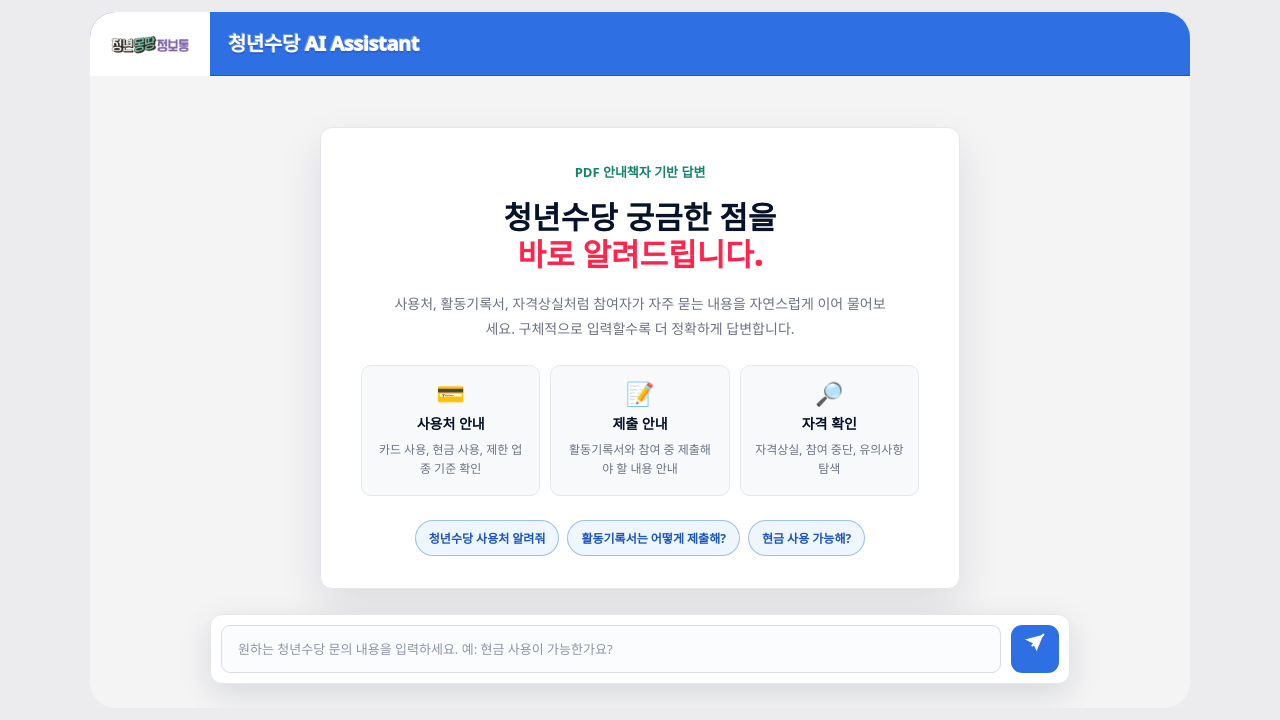
Test case: renders assistant answer with source after submit
Type "사용처 알려줘" into the field named "청년수당 질문" at (611, 649), box [221,625,1001,673]
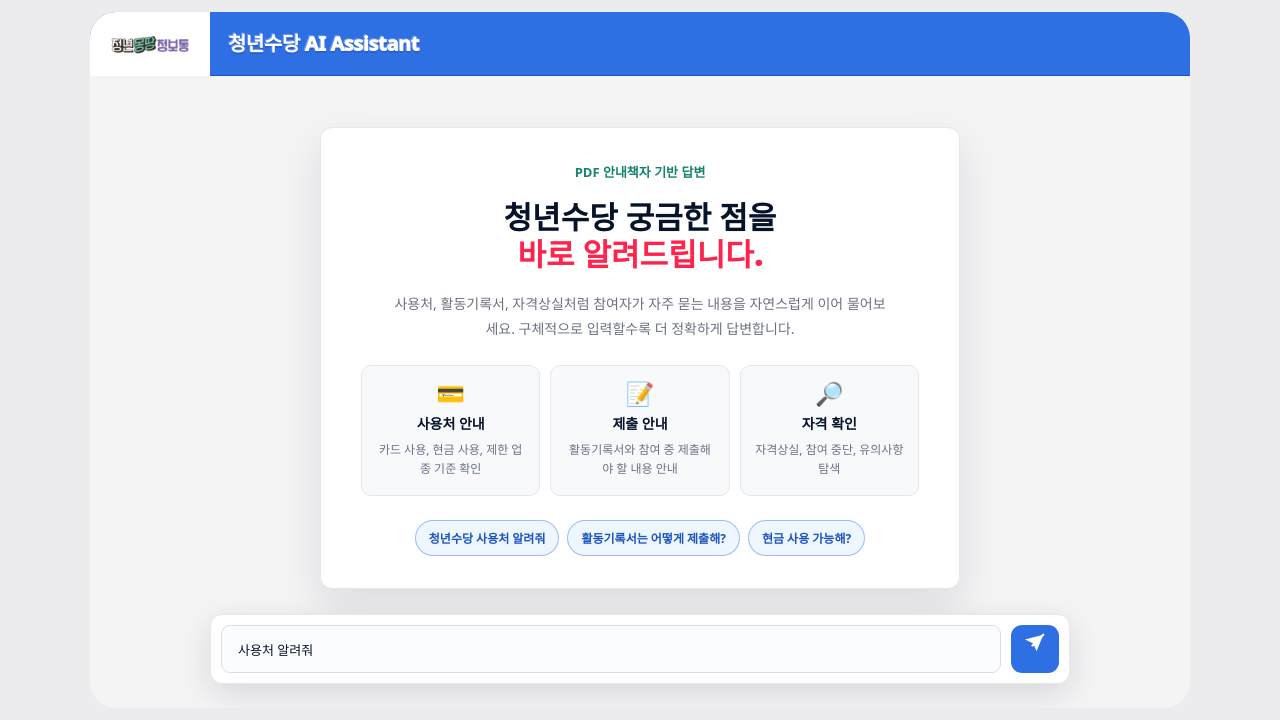
Click the button "보내기" at (1035, 649), box [1011,625,1059,673]
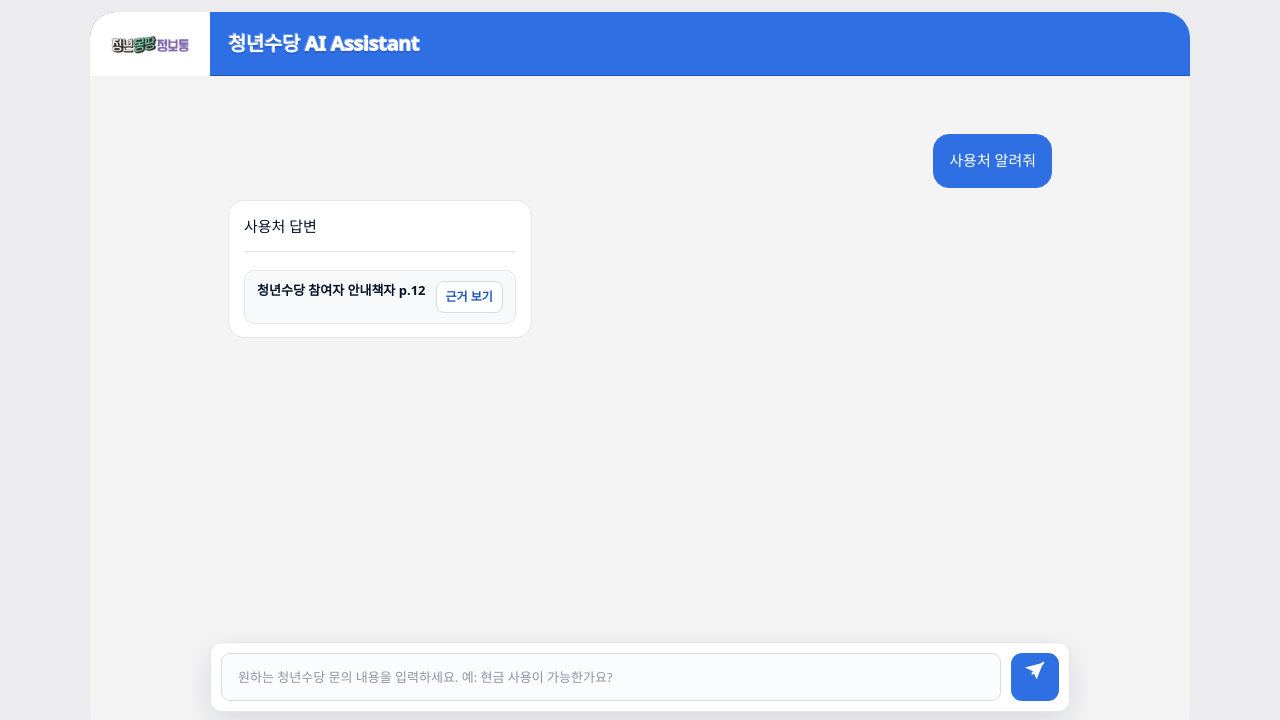
Now the text "사용처 답변" is shown, box [244,216,317,236]
Now the text "청년수당 참여자 안내책자 p.12" is shown, box [257,281,426,300]
